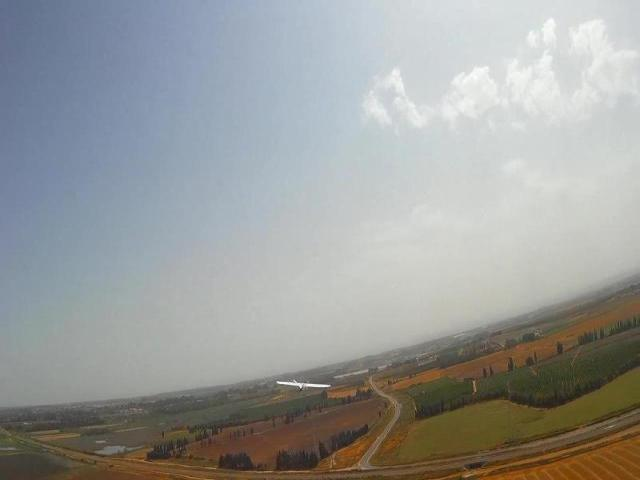hedef: (273, 373, 336, 404)
